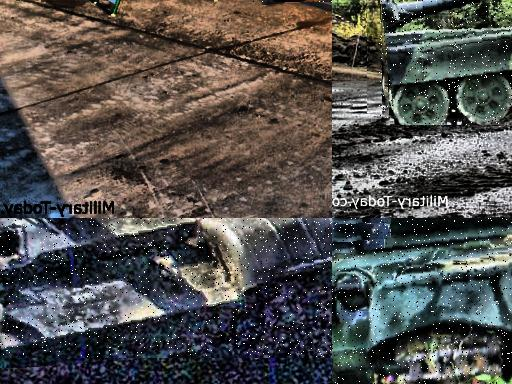tanks: (1, 219, 333, 358), (333, 219, 512, 384), (380, 1, 512, 126)
